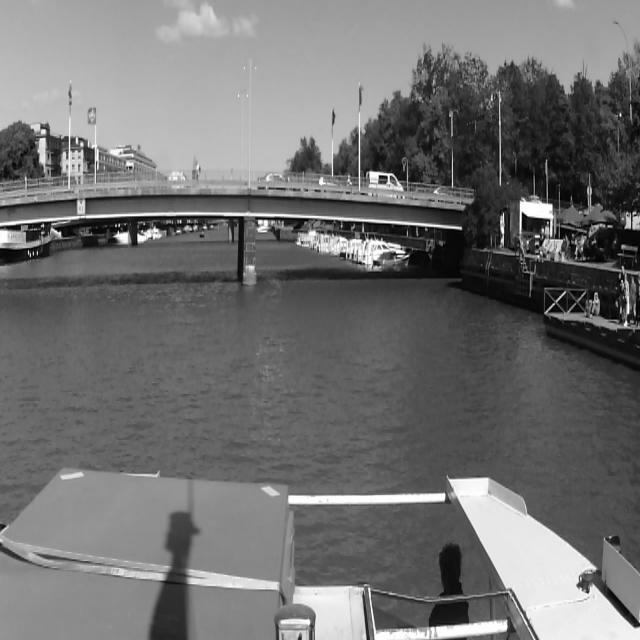ship: (0, 227, 54, 265), (375, 250, 411, 273)
